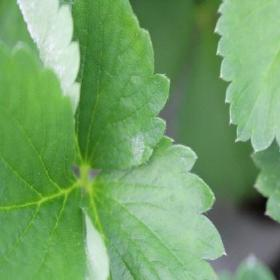Powdery Mildew Leaf: (17, 0, 172, 170), (80, 133, 227, 279)
